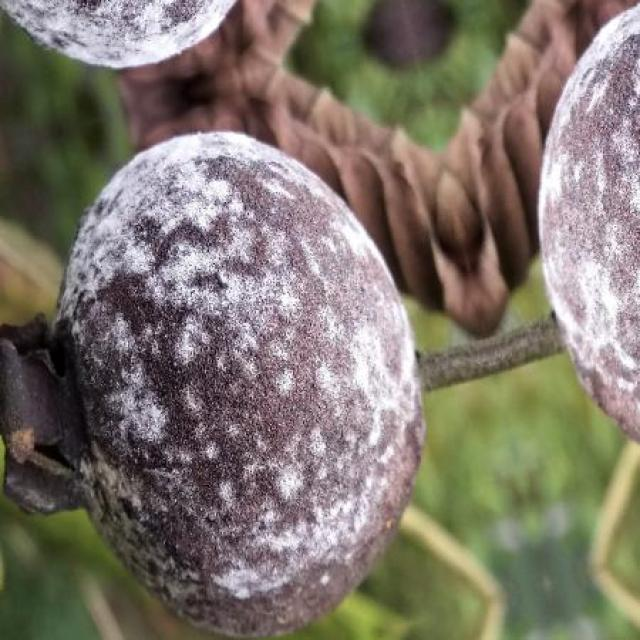Phytopthora: (58, 134, 422, 634), (539, 4, 640, 441)
